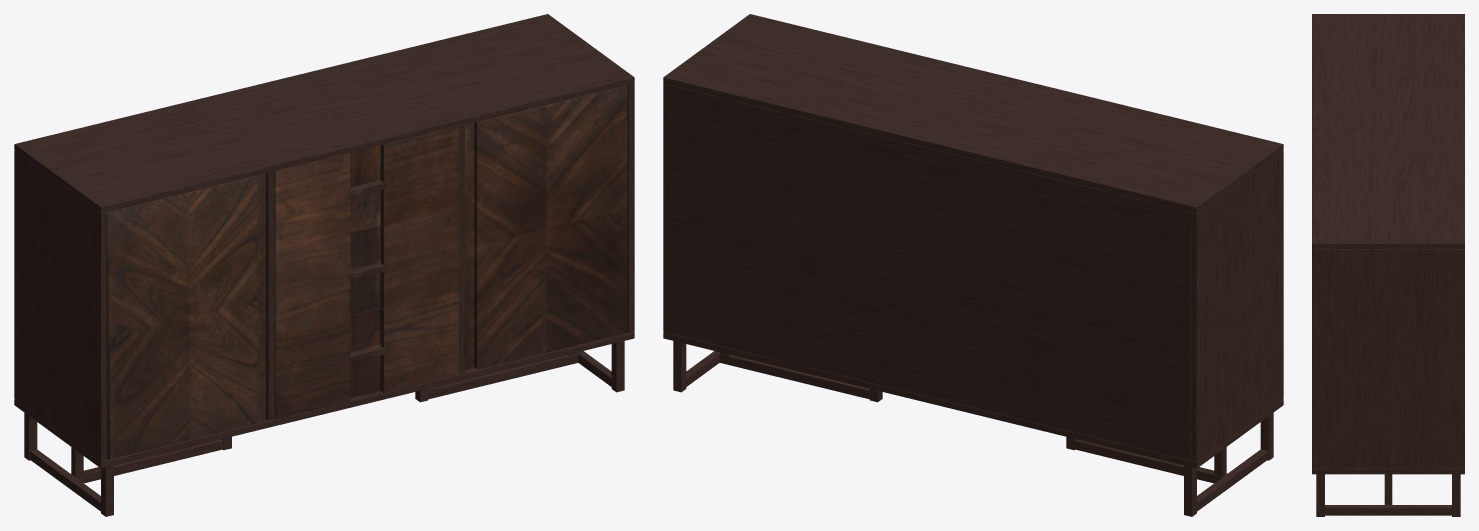
The picture shows the model from 3 angles, left to right: view 1: azimuth 30°, elevation 25°; view 2: azimuth 150°, elevation 25°; view 3: azimuth 270°, elevation 25°; orthographic projection. The views are drawn at different scales.
Parts seen in each view (by area): view 1: wood; view 2: wood; view 3: wood.
Part boxes in pixels (x1=…): wood: x1=14, y1=14, x2=634, y2=516; wood: x1=663, y1=14, x2=1283, y2=516; wood: x1=1312, y1=14, x2=1464, y2=516.
Size of the model in its own units: 1.6 by 0.901 by 0.45.
1 material, 1 textured.
